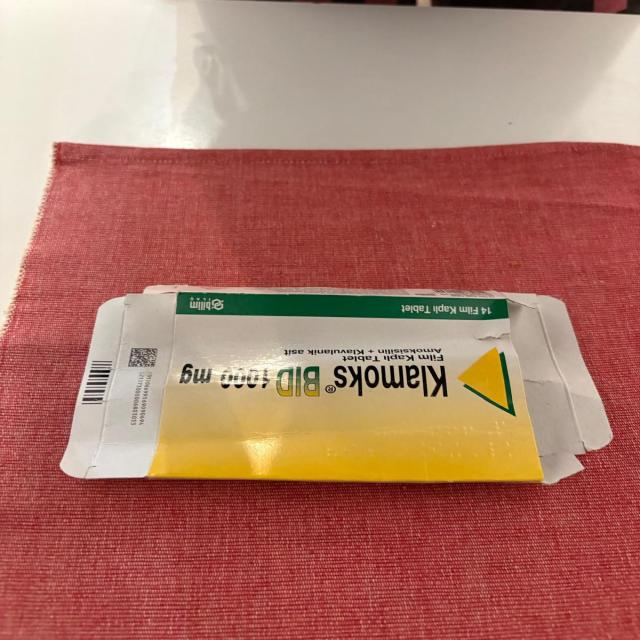damaged_package: (62, 285, 617, 486)
